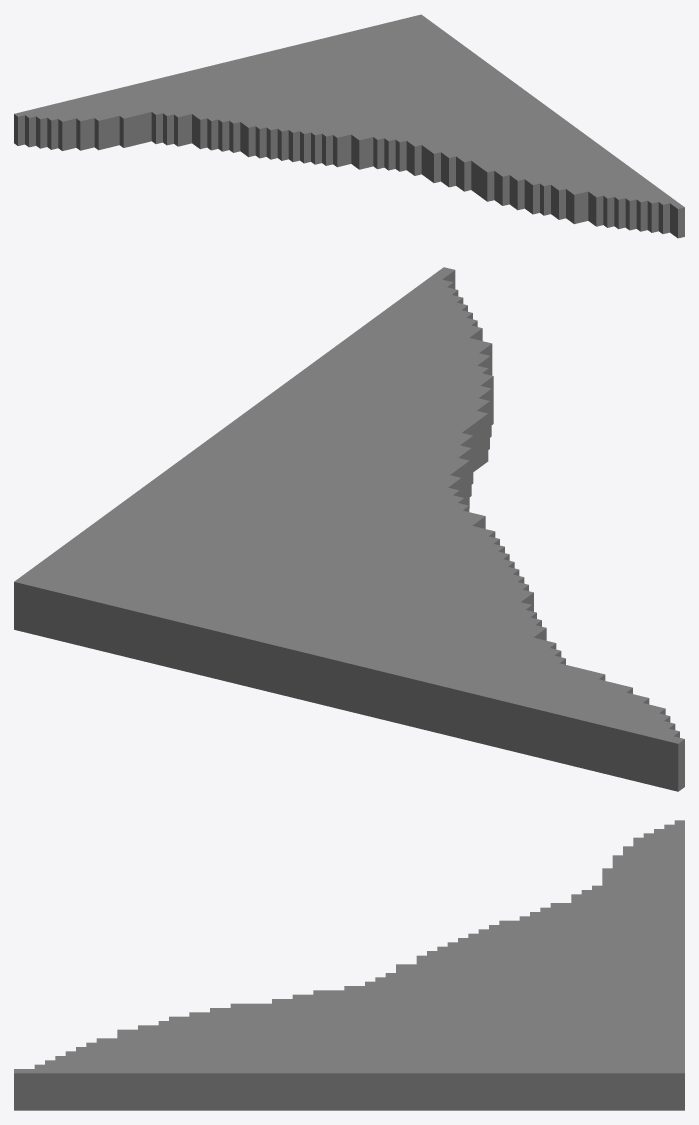
Rendered from Main Island-24.obj.
3 views of the same model, one above another, from view 1: azimuth 30°, elevation 25°; view 2: azimuth 150°, elevation 25°; view 3: azimuth 270°, elevation 25° (orthographic). The views are drawn at different scales.
Visible parts, largest first — view 1: Main Island-6; view 2: Main Island-6; view 3: Main Island-6.
Part boxes in pixels (x1,y1,x2,y2): Main Island-6: [14, 14, 684, 238]; Main Island-6: [14, 267, 684, 791]; Main Island-6: [14, 820, 684, 1110].
Bounding box in the file's own units: 58 × 4 × 65.
1 material, 1 textured.
